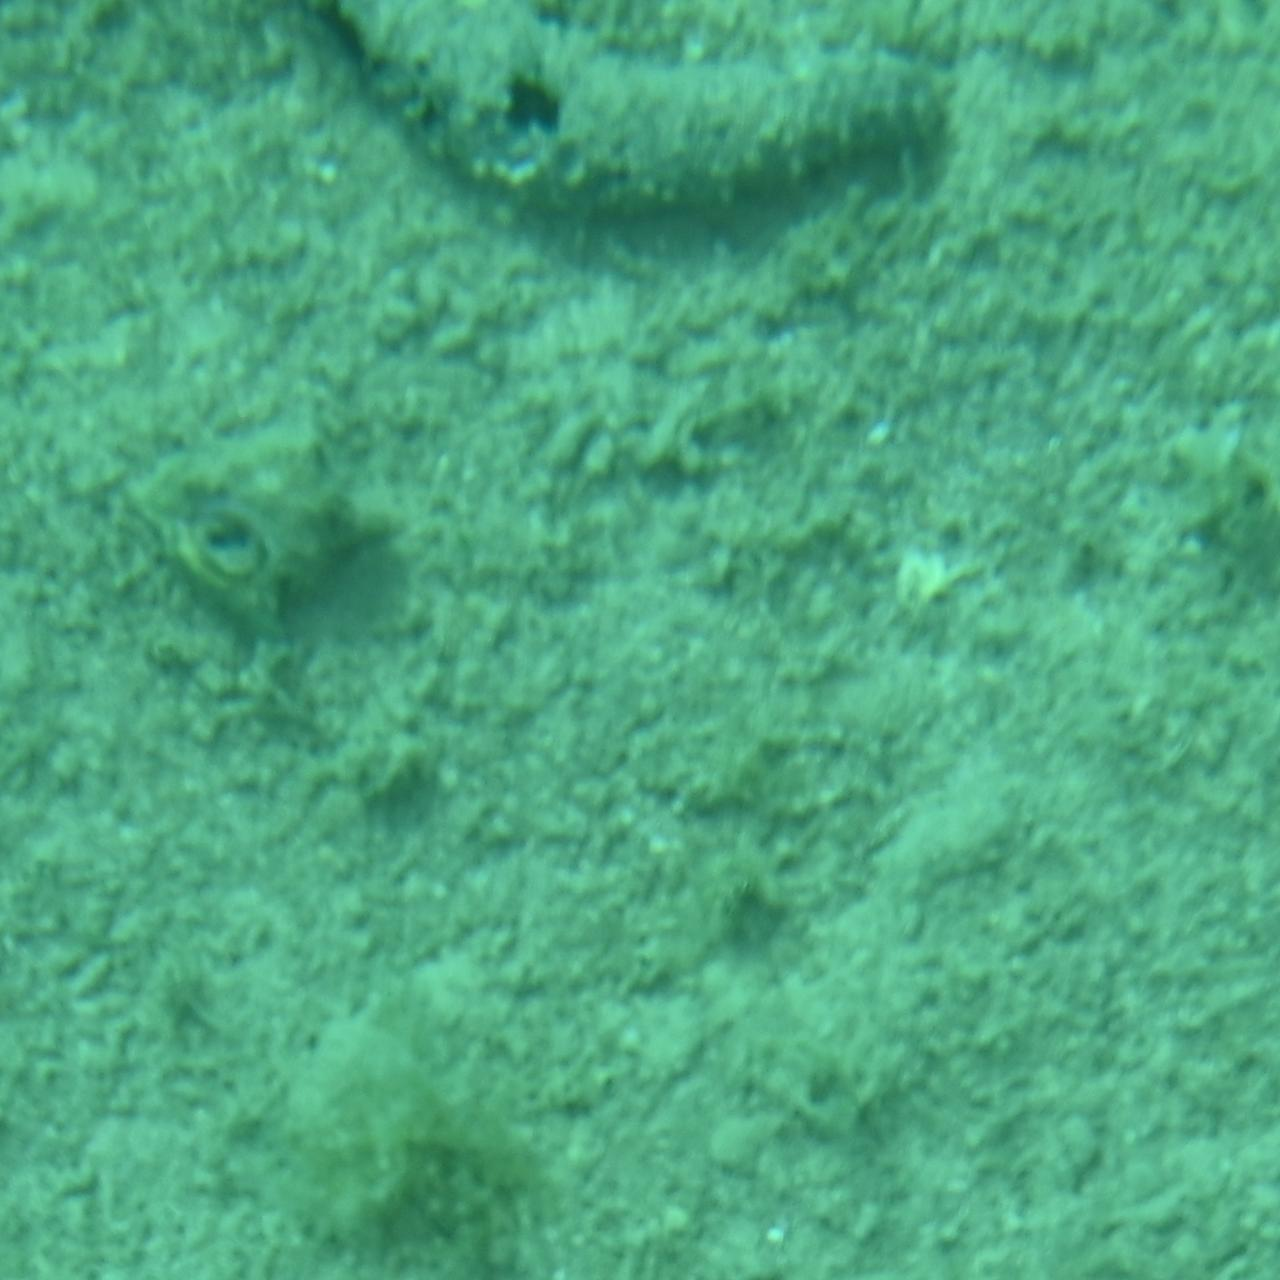Holothuria tubulosa: (333, 0, 947, 207)
